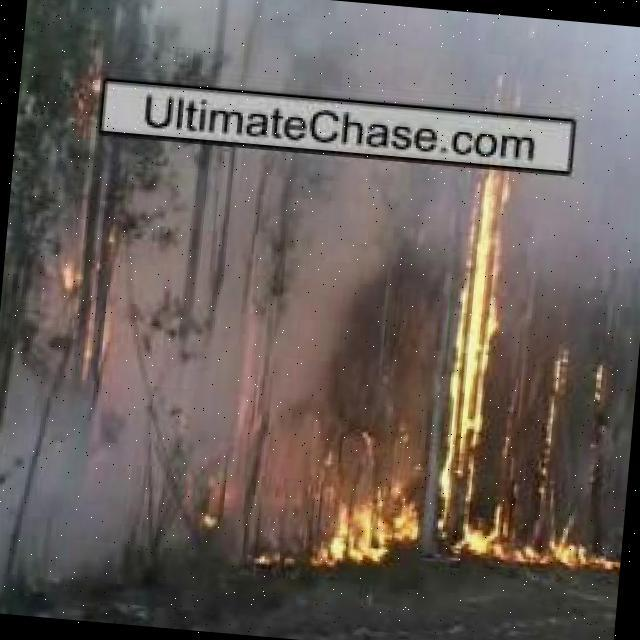Fire: (432, 123, 541, 557), (38, 197, 135, 381), (294, 454, 426, 573), (523, 538, 621, 575), (71, 66, 110, 120)
